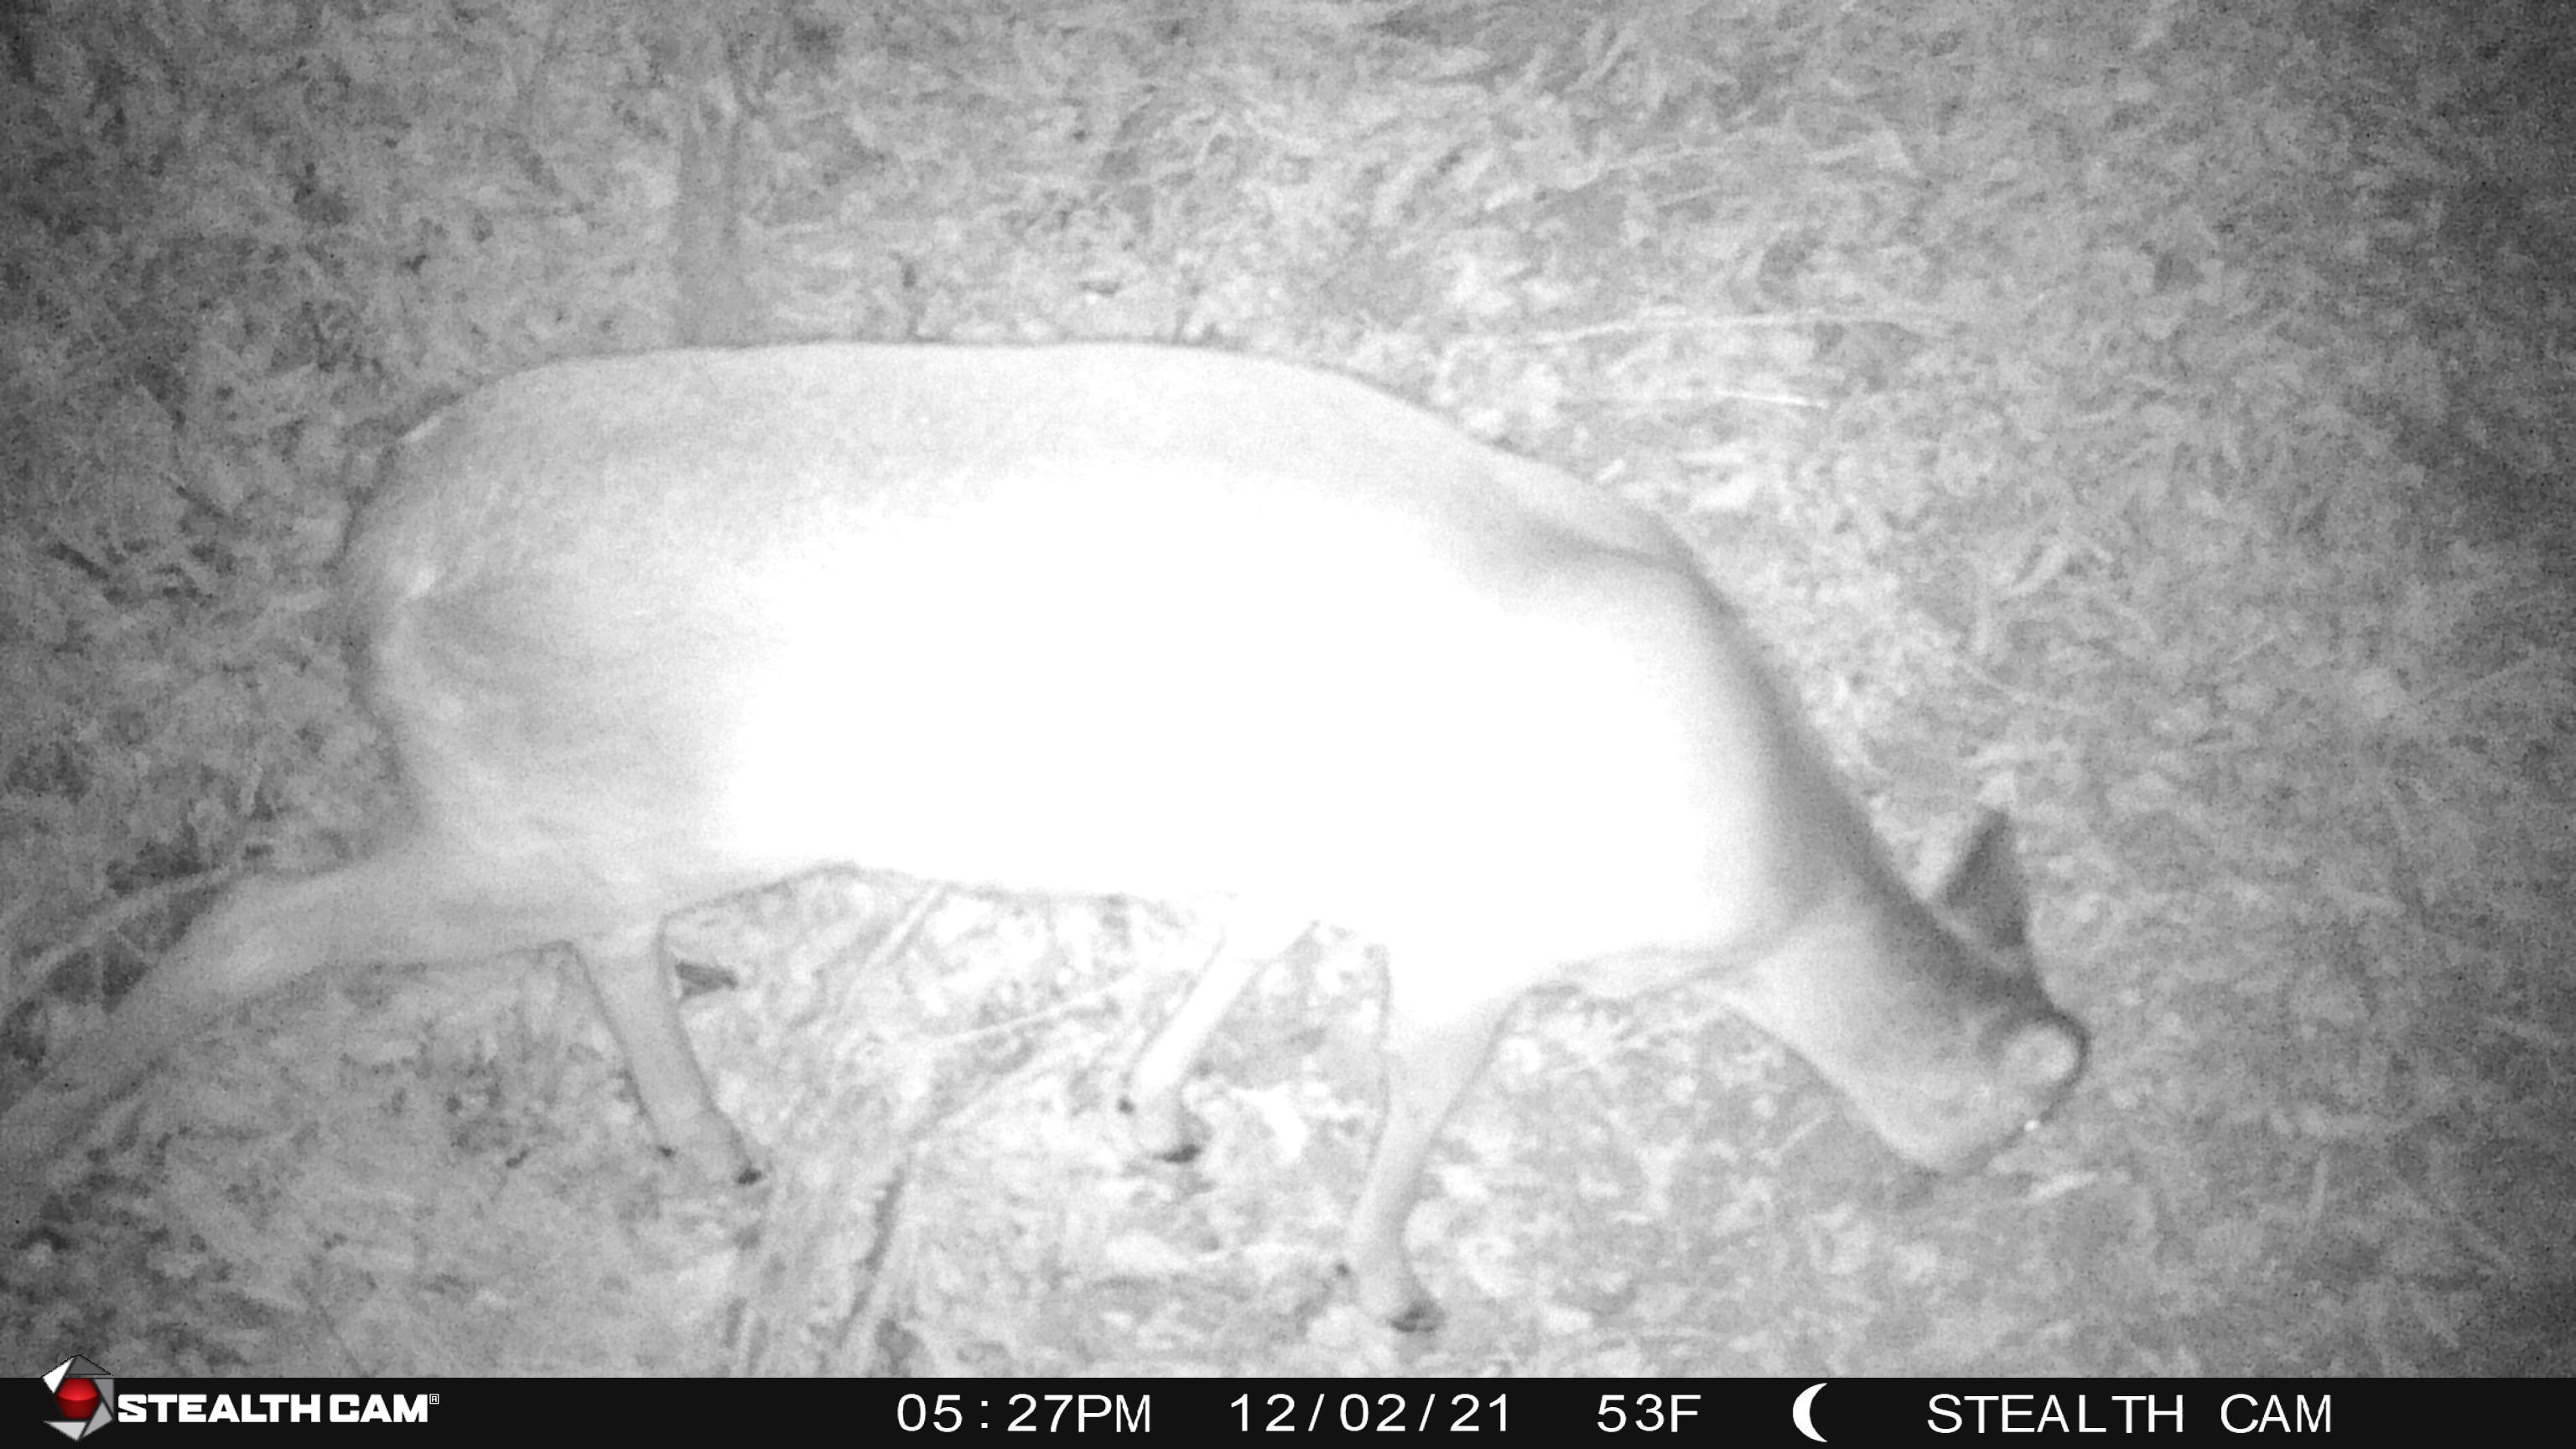DeerDoe: (334, 336, 2089, 1338)
